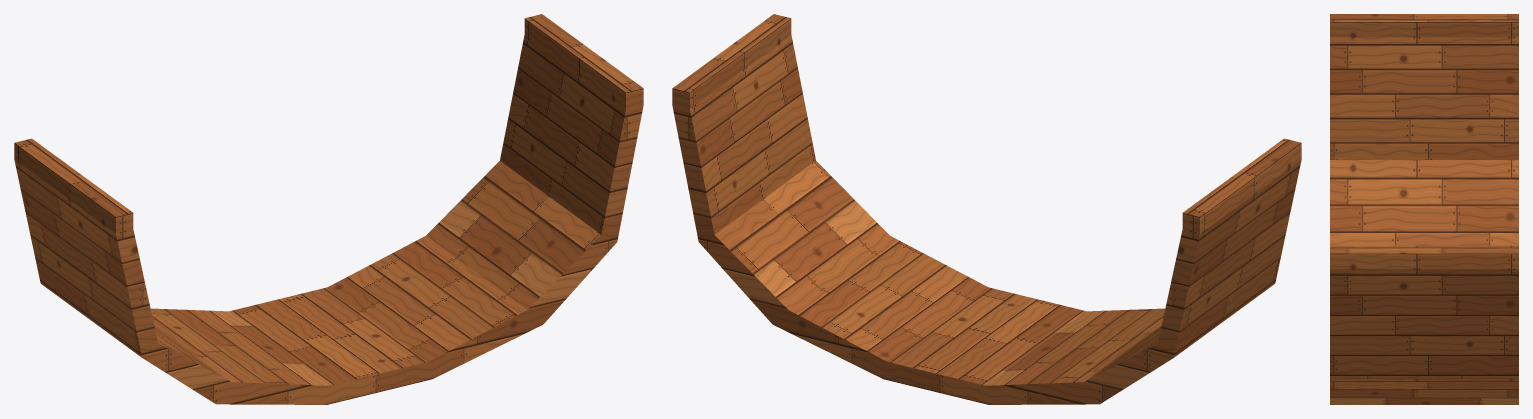
File: BOTTOM_CENTRE.glb
3 views of the same model, side by side, from view 1: azimuth 30°, elevation 25°; view 2: azimuth 150°, elevation 25°; view 3: azimuth 270°, elevation 25° (orthographic). The views are drawn at different scales.
Parts seen in each view (by area): view 1: BOTTOM_CENTRE; view 2: BOTTOM_CENTRE; view 3: BOTTOM_CENTRE.
Part boxes in pixels (left/top/right/bottom): BOTTOM_CENTRE: left=14, top=14, right=643, bottom=404; BOTTOM_CENTRE: left=672, top=14, right=1301, bottom=404; BOTTOM_CENTRE: left=1330, top=14, right=1518, bottom=404.
Bounding box in the file's own units: 6 × 2.6 × 2.
1 material, 1 textured.
